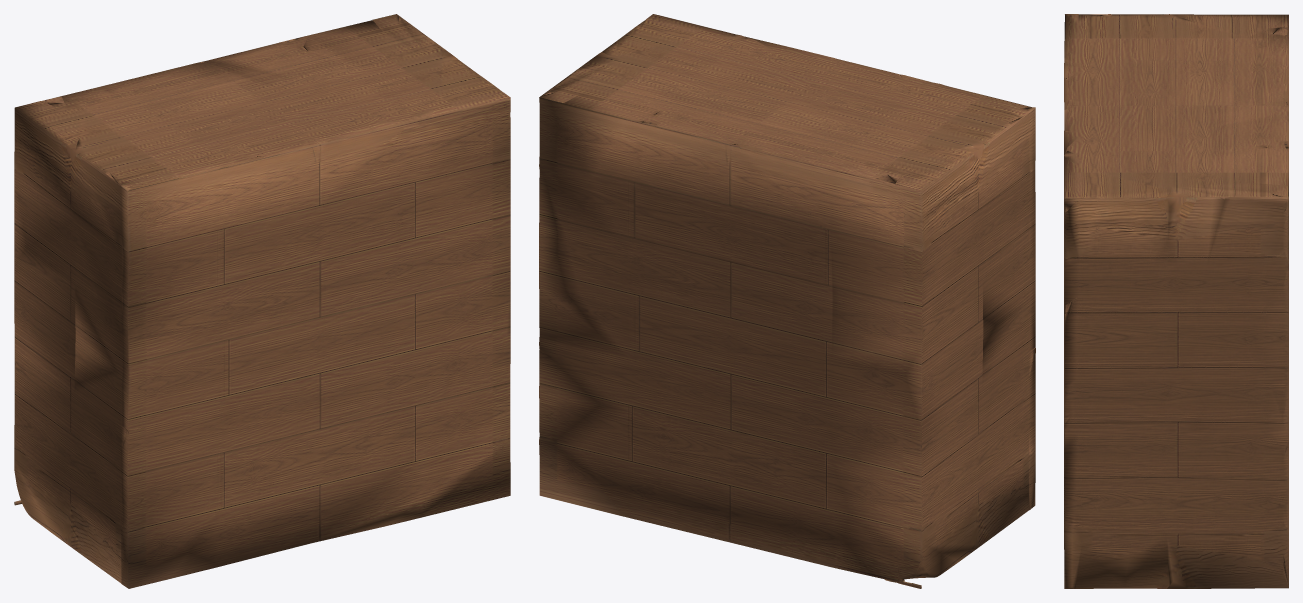
Rendered from Meshy_AI_Wooden_Brick_Pattern_0610042616_texture.fbx.
3 views of the same model, side by side, from view 1: azimuth 30°, elevation 25°; view 2: azimuth 150°, elevation 25°; view 3: azimuth 270°, elevation 25° (orthographic).
Parts seen in each view (by area): view 1: Mesh_0; view 2: Mesh_0; view 3: Mesh_0.
Part boxes in pixels (x1,y1,x2,y2): Mesh_0: (14,14,510,588); Mesh_0: (539,14,1035,588); Mesh_0: (1064,14,1288,588).
Size of the model in its own units: 191 by 190 by 98.94.
Materials: 1 (1 with a texture image).
